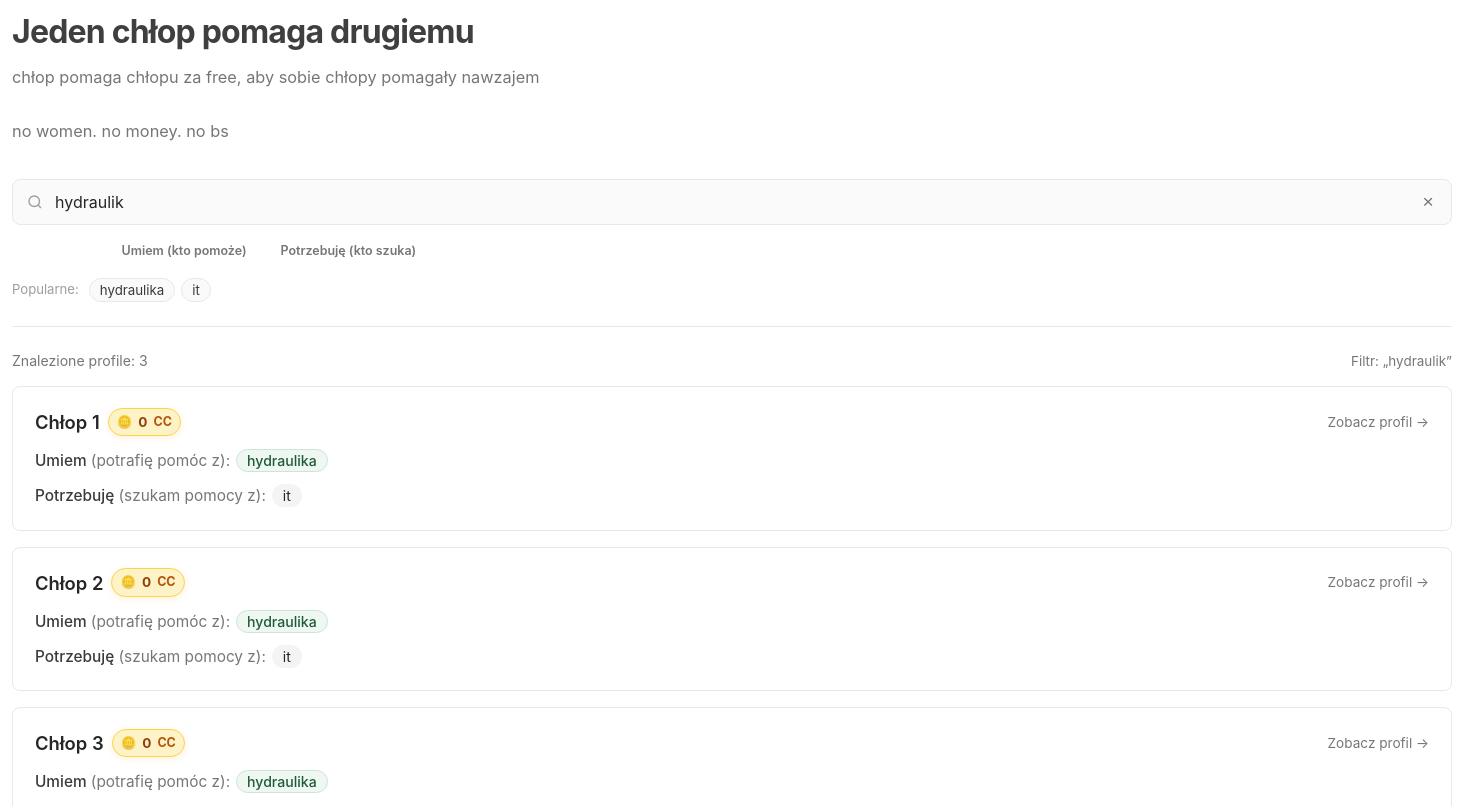
Scenario: HomeView: wyszukiwarka i filtry › filtry zakresu ustawiają aria-pressed i opis wyników
The image size is (1464, 806).
Click the button "Umiem (kto pomoże)" at (184, 250), box [109, 237, 260, 264]
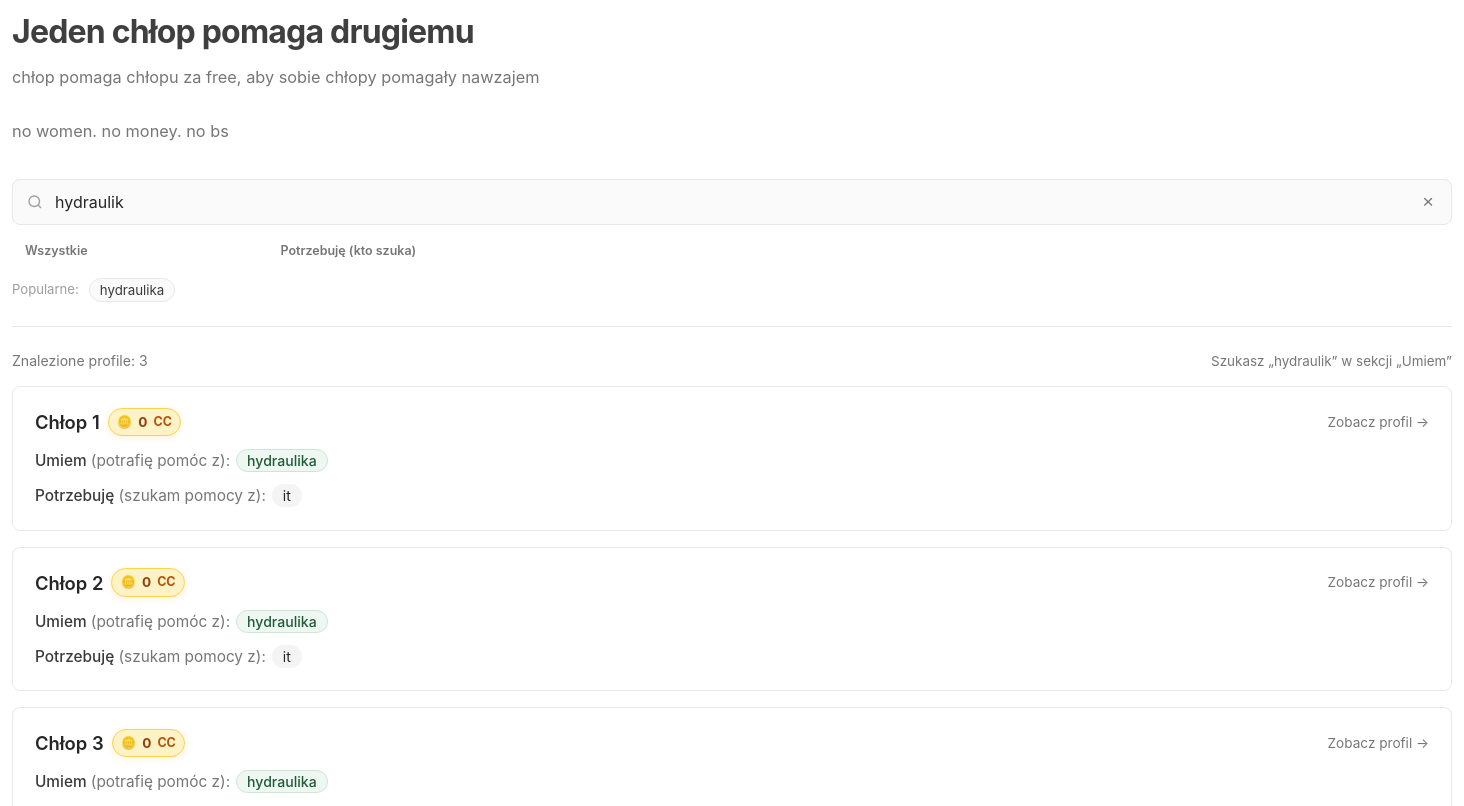
Result: the text with class "active-filter-hint" reads "Szukasz „hydraulik” w sekcji „Umiem”" at [1211, 353, 1452, 369]
Click the button "Potrzebuję (kto szuka)" at (348, 250), box [268, 237, 429, 264]
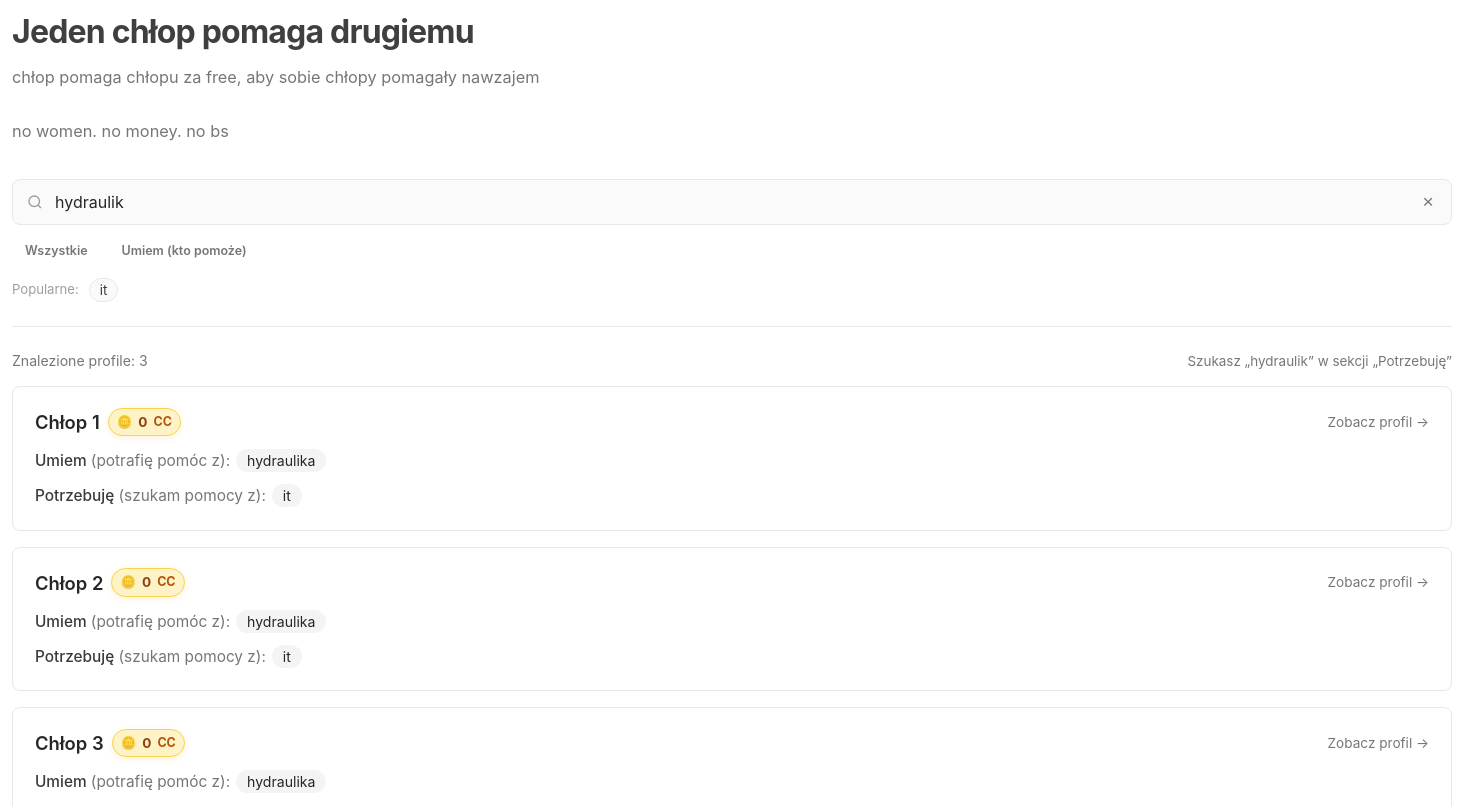
Result: the text with class "active-filter-hint" reads "Szukasz „hydraulik” w sekcji „Potrzebuję”" at [1187, 353, 1452, 369]
Click the button "Wszystkie" at (56, 250), box [12, 237, 101, 264]
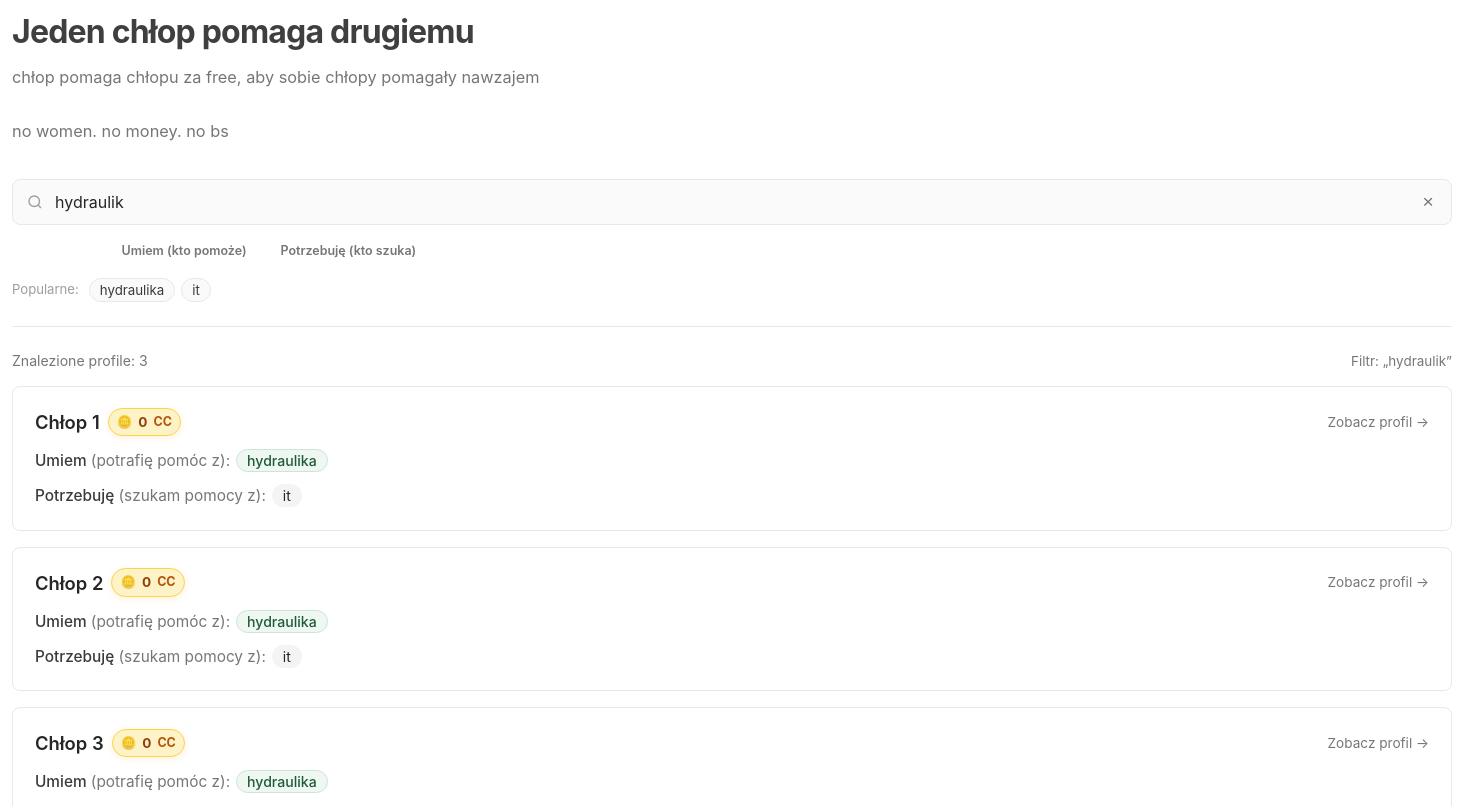
Result: the text with class "active-filter-hint" reads "Filtr: „hydraulik”" at [1351, 353, 1452, 369]
